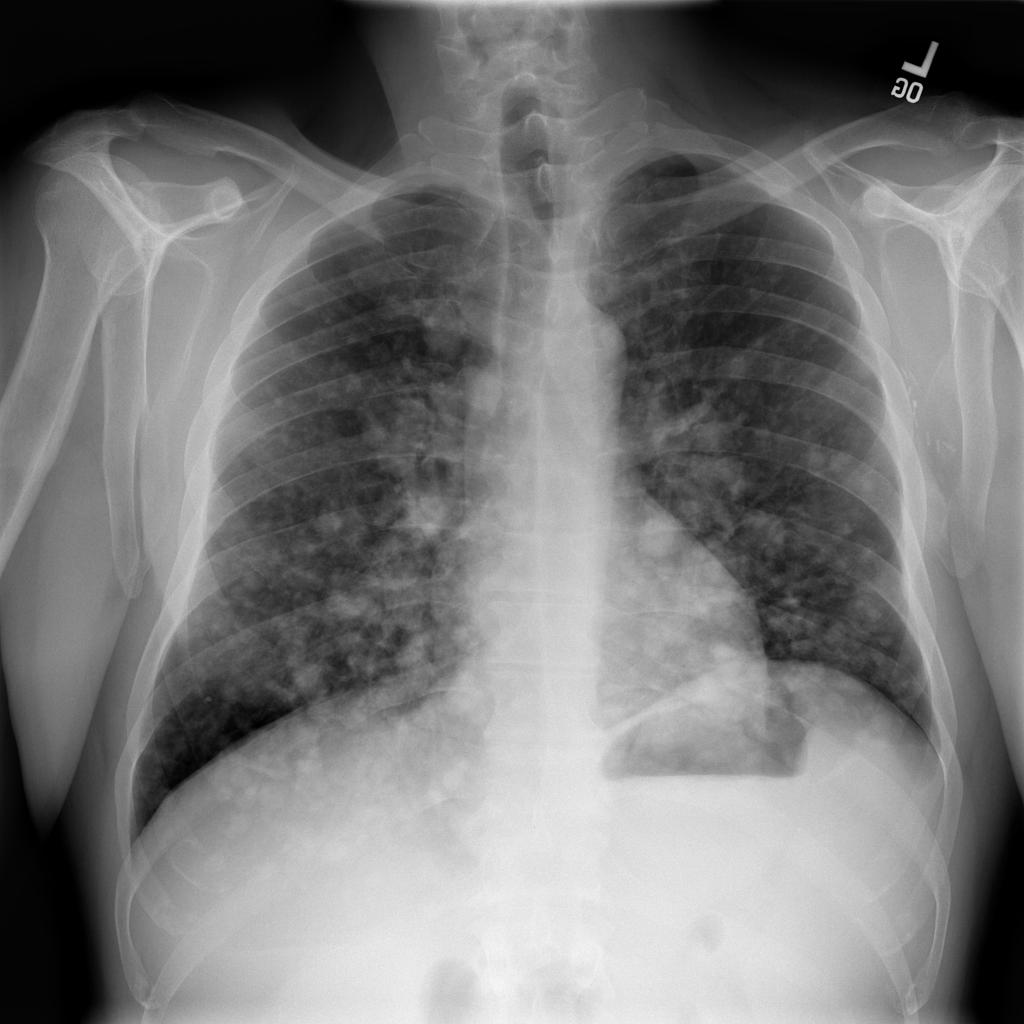nodule: (364, 396, 440, 474), (386, 473, 461, 547), (302, 349, 378, 418), (447, 357, 516, 432), (622, 504, 698, 570), (302, 493, 378, 556), (407, 297, 473, 367)
